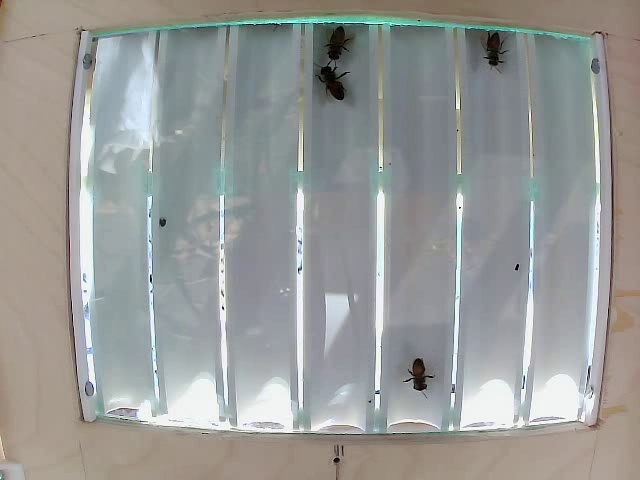bee: (471, 22, 519, 73), (399, 347, 448, 395), (317, 24, 361, 60), (311, 69, 350, 107)
